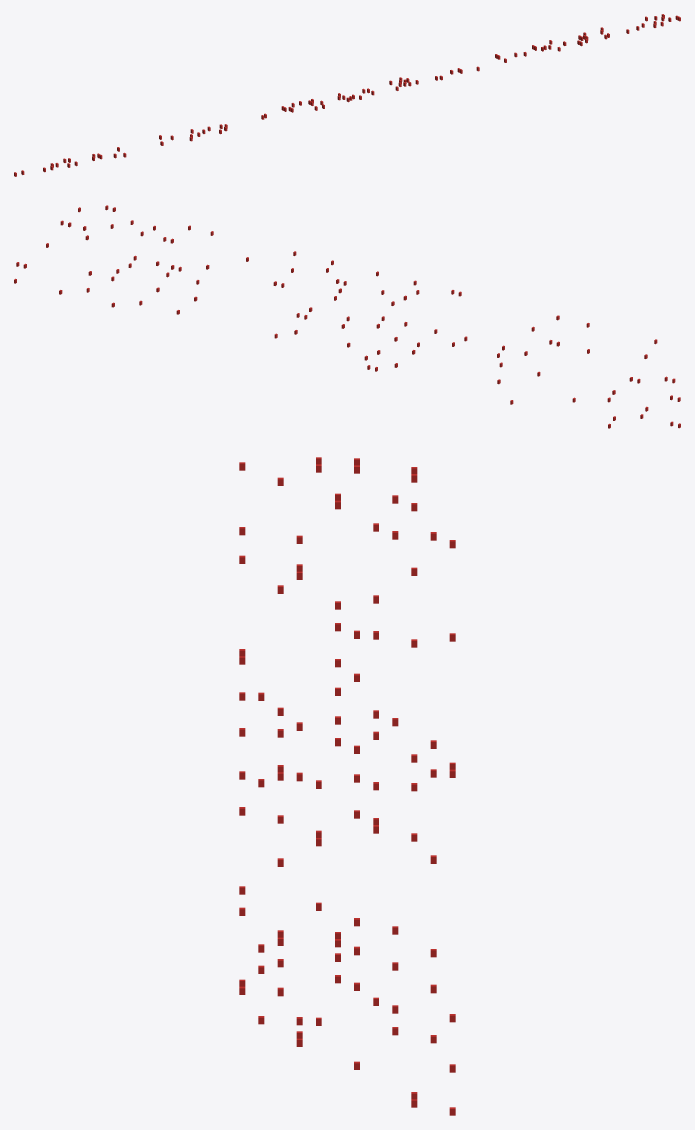
Rendered from SM_DV_05_Grandstand_steps_seating_and_crowd_red.fbx.
3 views of the same model, one above another, from view 1: azimuth 30°, elevation 25°; view 2: azimuth 150°, elevation 25°; view 3: azimuth 270°, elevation 25° (orthographic). The views are drawn at different scales.
Parts seen in each view (by area): view 1: 05 Grandstand steps seating and crowd | red; view 2: 05 Grandstand steps seating and crowd | red; view 3: 05 Grandstand steps seating and crowd | red.
Boxes of the visible parts, left/top/right/bottom form: 05 Grandstand steps seating and crowd | red: left=14, top=14, right=680, bottom=176; 05 Grandstand steps seating and crowd | red: left=14, top=205, right=680, bottom=428; 05 Grandstand steps seating and crowd | red: left=239, top=457, right=455, bottom=1115.
Size of the model in its own units: 7057 by 1018 by 476.
